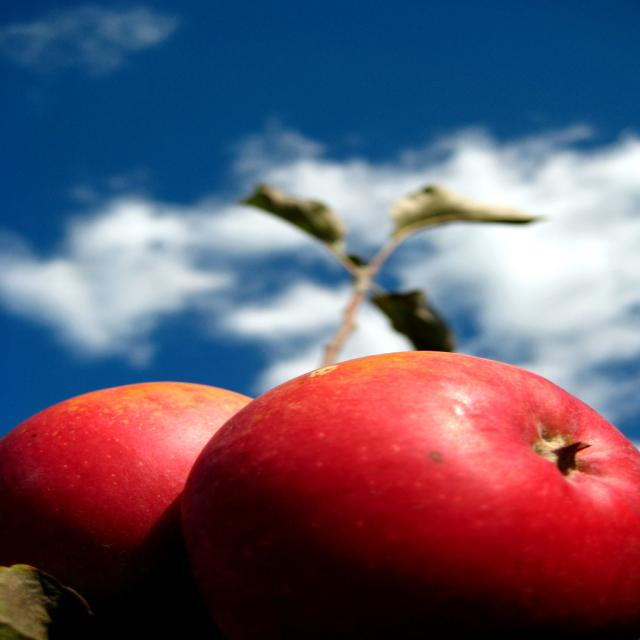Healty Apple: (182, 348, 640, 640), (0, 378, 257, 598)
